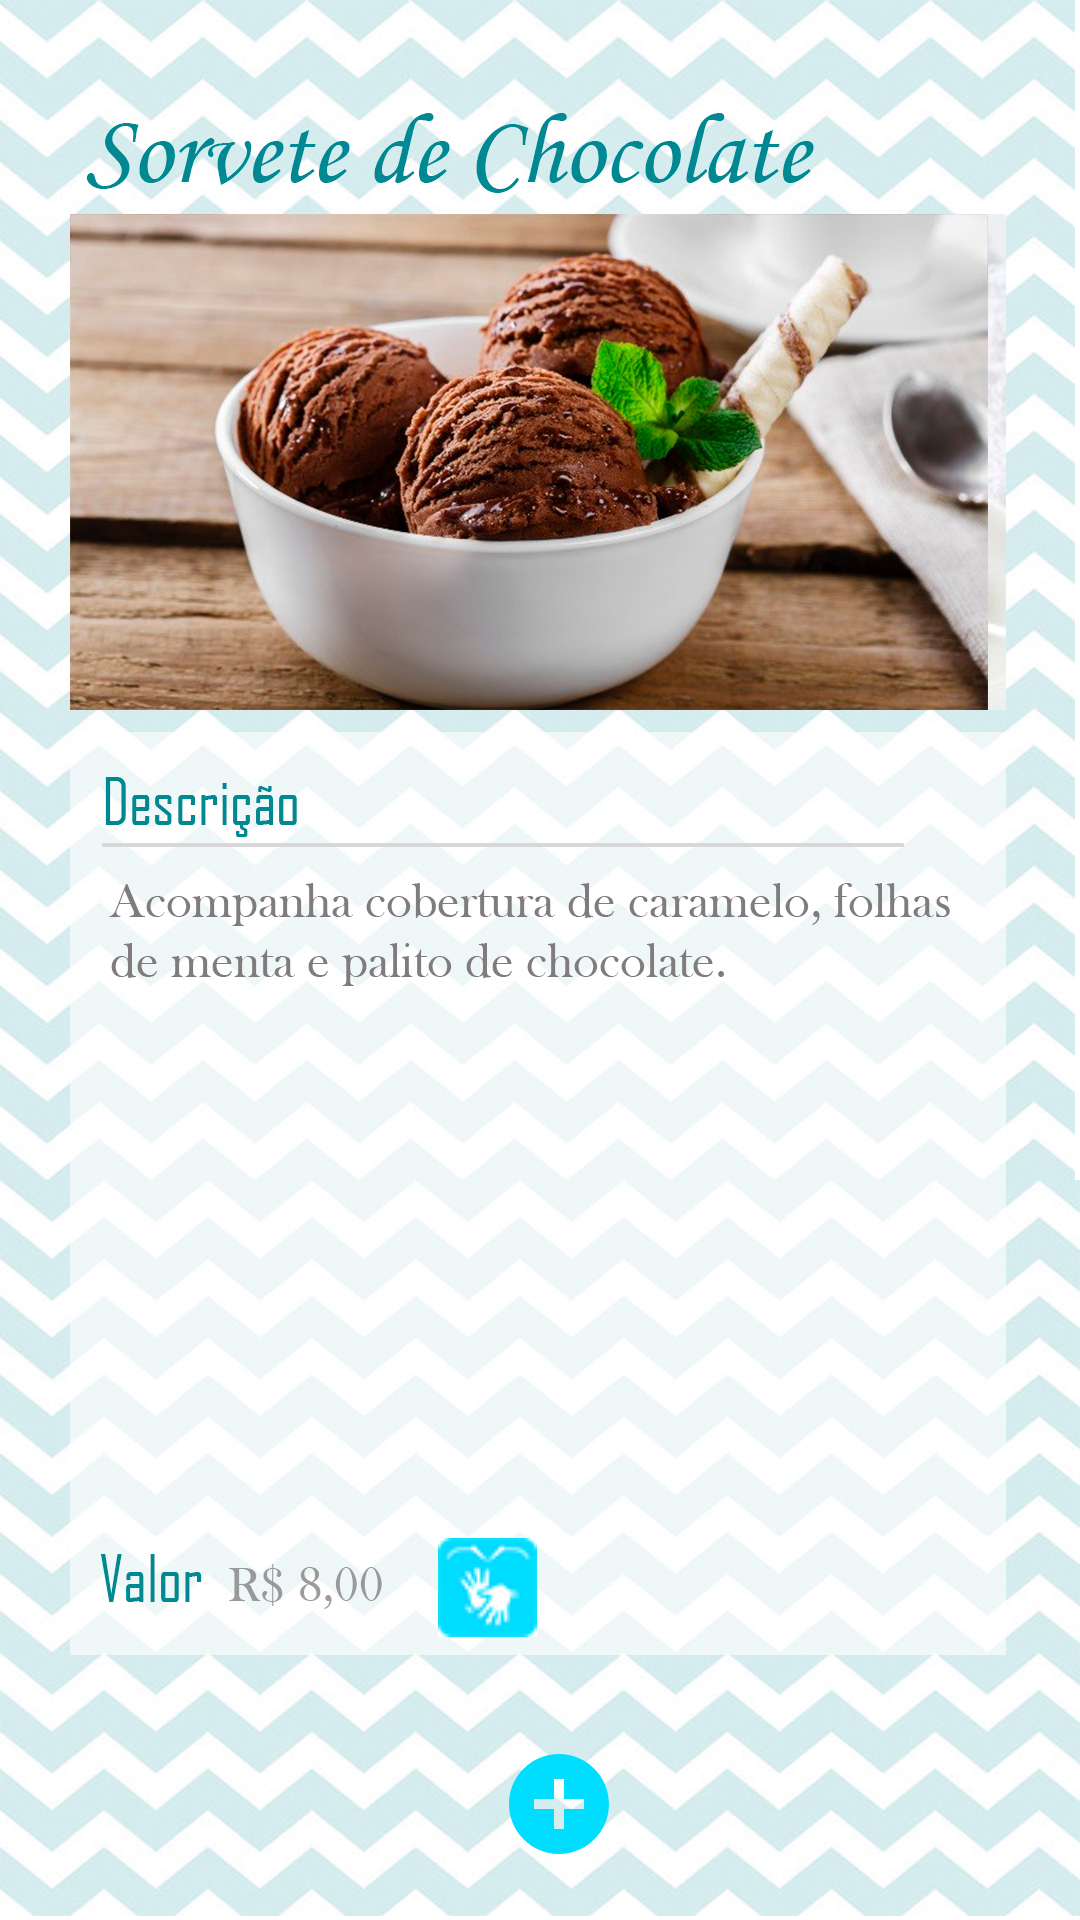

Screen size 1080×1920. Icon name, then its center in pixels as [x,y]:
add: [558,1804]
